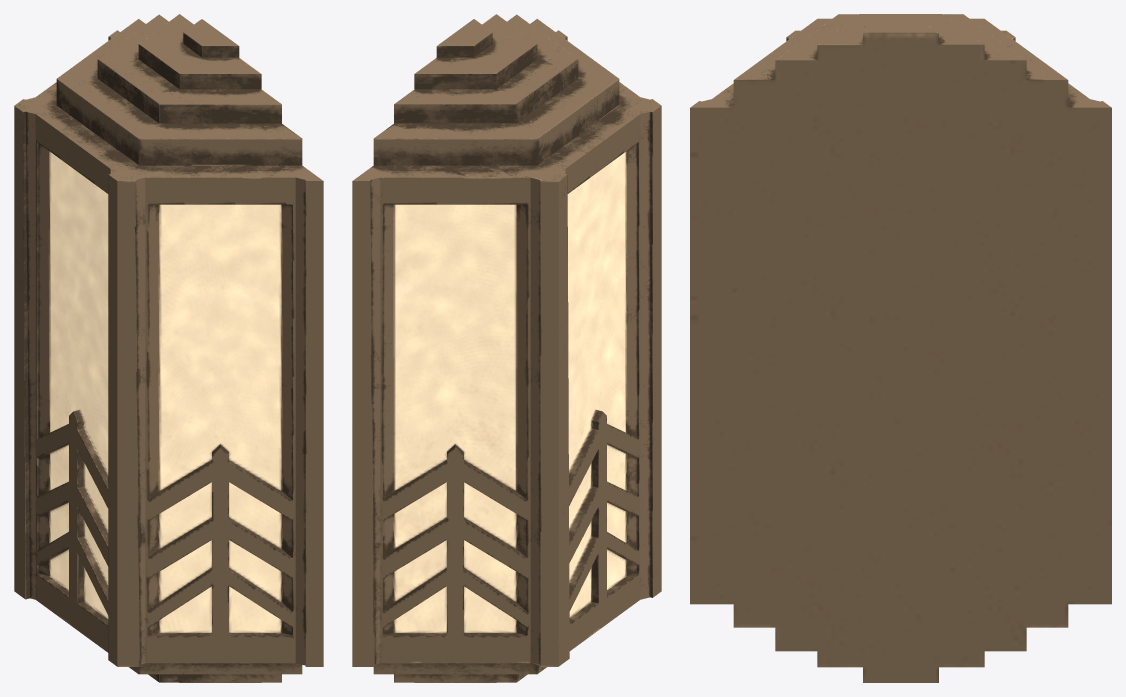
3 renders of one model, left to right at view 1: azimuth 30°, elevation 25°; view 2: azimuth 150°, elevation 25°; view 3: azimuth 270°, elevation 25°, orthographic. The views are drawn at different scales.
Visible parts, largest first — view 1: TowerOfTerror_WallSconce v1; view 2: TowerOfTerror_WallSconce v1; view 3: TowerOfTerror_WallSconce v1.
Boxes of the visible parts, x1,y1,x2,y2 form: TowerOfTerror_WallSconce v1: (14, 14, 323, 682); TowerOfTerror_WallSconce v1: (352, 14, 661, 682); TowerOfTerror_WallSconce v1: (690, 14, 1111, 682).
Size of the model in its own units: 21 by 82.5 by 48.5.
Materials: 1 (1 with a texture image).
